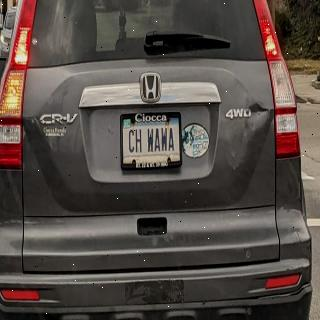license: (121, 113, 184, 171)
